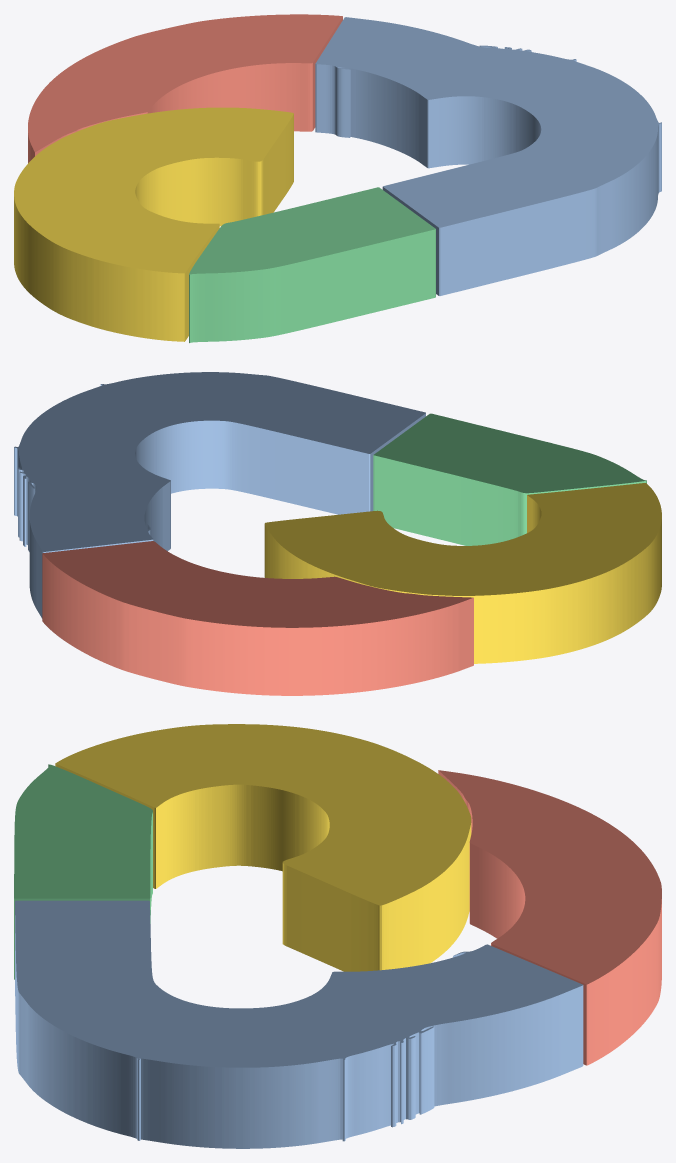
The model's file is Google+Cloud-transformed-draco.glb.
3 renders of one model, top to bottom at view 1: azimuth 30°, elevation 25°; view 2: azimuth 150°, elevation 25°; view 3: azimuth 270°, elevation 25°, orthographic. The views are drawn at different scales.
Visible parts, largest first — view 1: Node1, Node2, Node4, Node3; view 2: Node1, Node3, Node2, Node4; view 3: Node1, Node2, Node3, Node4.
Part boxes in pixels (x1,y1,x2,y2): Node1: (315, 17, 661, 295); Node2: (14, 107, 293, 341); Node4: (189, 187, 435, 342); Node3: (28, 14, 342, 163); Node1: (14, 372, 425, 618); Node3: (42, 541, 473, 695); Node2: (264, 483, 661, 663); Node4: (373, 413, 646, 545); Node1: (15, 900, 583, 1148); Node2: (55, 724, 471, 971); Node3: (438, 770, 661, 1065); Node4: (14, 764, 152, 979).
Size of what is drawn, in the model's own units: 90.86 by 10 by 72.41.
